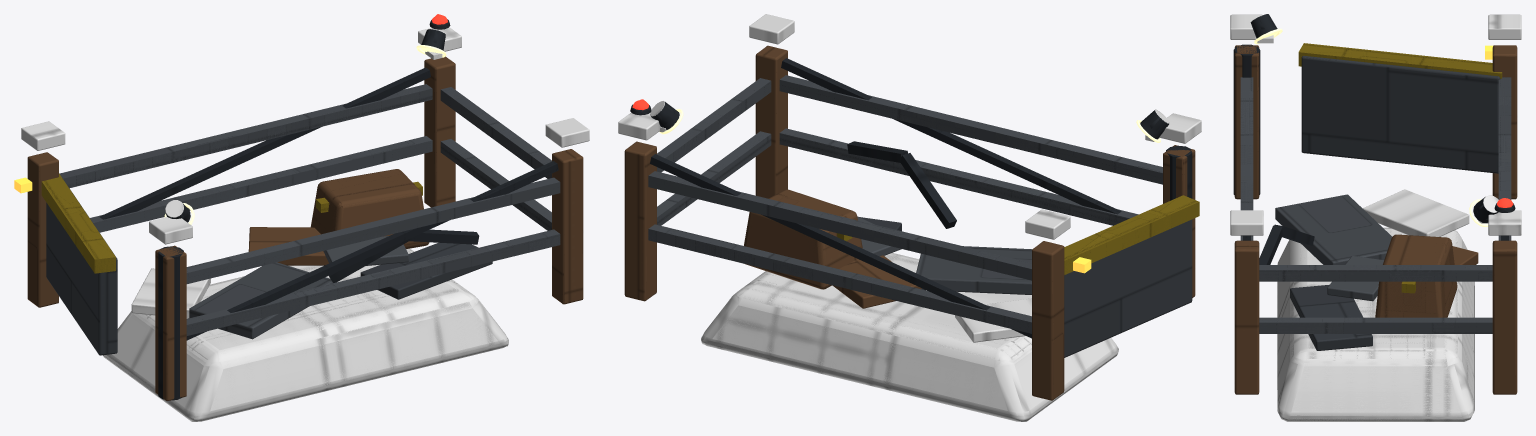
File: place_scrap_cage.glb
The picture shows the model from 3 angles, left to right: view 1: azimuth 30°, elevation 25°; view 2: azimuth 150°, elevation 25°; view 3: azimuth 270°, elevation 25°; orthographic projection. The views are drawn at different scales.
Parts seen in each view (by area): view 1: LOD0_BrushedMetal_steel, LOD0_MechanicalDark_scorch, LOD0_deadmetal_rust, LOD1_BrushedMetal_steel, LOD0_Mechanical, LOD1_MechanicalDark_scorch, LOD0_Armor, LOD0_MechanicalDark, LOD1_Mechanical, LOD0_Warning, LOD1_deadmetal_rust, LOD1_Warning (+1 smaller); view 2: LOD0_BrushedMetal_steel, LOD0_MechanicalDark_scorch, LOD0_deadmetal_rust, LOD1_BrushedMetal_steel, LOD0_Armor, LOD0_Mechanical, LOD1_MechanicalDark_scorch, LOD0_MechanicalDark, LOD0_Warning, LOD1_Warning, LOD2_MechanicalDark_scorch, LOD1_deadmetal_rust (+1 smaller); view 3: LOD0_Armor, LOD0_MechanicalDark_scorch, LOD0_BrushedMetal_steel, LOD0_deadmetal_rust, LOD1_MechanicalDark_scorch, LOD1_BrushedMetal_steel, LOD0_MechanicalDark, LOD0_Warning, LOD0_Mechanical, LOD1_deadmetal_rust, LOD2_MechanicalDark_scorch, LOD1_Warning.
Part boxes in pixels (x1,y1,x2,y2): LOD0_BrushedMetal_steel: (59,84,560,338); LOD0_MechanicalDark_scorch: (103,249,508,421); LOD0_deadmetal_rust: (27,56,583,400); LOD1_BrushedMetal_steel: (63,85,560,334); LOD0_Mechanical: (100,20,558,400); LOD1_MechanicalDark_scorch: (104,248,507,421); LOD0_Armor: (46,178,492,355); LOD0_MechanicalDark: (21,27,589,244); LOD1_Mechanical: (100,21,558,340); LOD0_Warning: (41,173,422,273); LOD1_deadmetal_rust: (27,58,583,400); LOD1_Warning: (42,174,422,273); LOD0_BrushedMetal_steel: (648,75,1162,333); LOD0_MechanicalDark_scorch: (701,253,1117,421); LOD0_deadmetal_rust: (624,46,1195,400); LOD1_BrushedMetal_steel: (648,75,1162,333); LOD0_Armor: (859,217,1192,357); LOD0_Mechanical: (630,58,1192,338); LOD1_MechanicalDark_scorch: (701,253,1118,421); LOD0_MechanicalDark: (618,14,1201,239); LOD0_Warning: (837,195,1199,274); LOD1_Warning: (837,195,1199,274); LOD2_MechanicalDark_scorch: (701,272,1118,421); LOD1_deadmetal_rust: (625,46,1195,400); LOD0_Armor: (1290,56,1500,350); LOD0_MechanicalDark_scorch: (1277,189,1474,421); LOD0_BrushedMetal_steel: (1240,77,1511,333); LOD0_deadmetal_rust: (1234,45,1517,394); LOD1_MechanicalDark_scorch: (1277,214,1474,421); LOD1_BrushedMetal_steel: (1240,77,1511,333); LOD0_MechanicalDark: (1230,14,1521,235); LOD0_Warning: (1298,43,1502,293); LOD0_Mechanical: (1233,14,1515,264); LOD1_deadmetal_rust: (1235,45,1516,394); LOD2_MechanicalDark_scorch: (1277,228,1474,421); LOD1_Warning: (1298,43,1502,293).
Size of what is drawn, in the model's own units: 12.04 by 6.07 by 6.55.
Materials: 17 (14 with a texture image).
